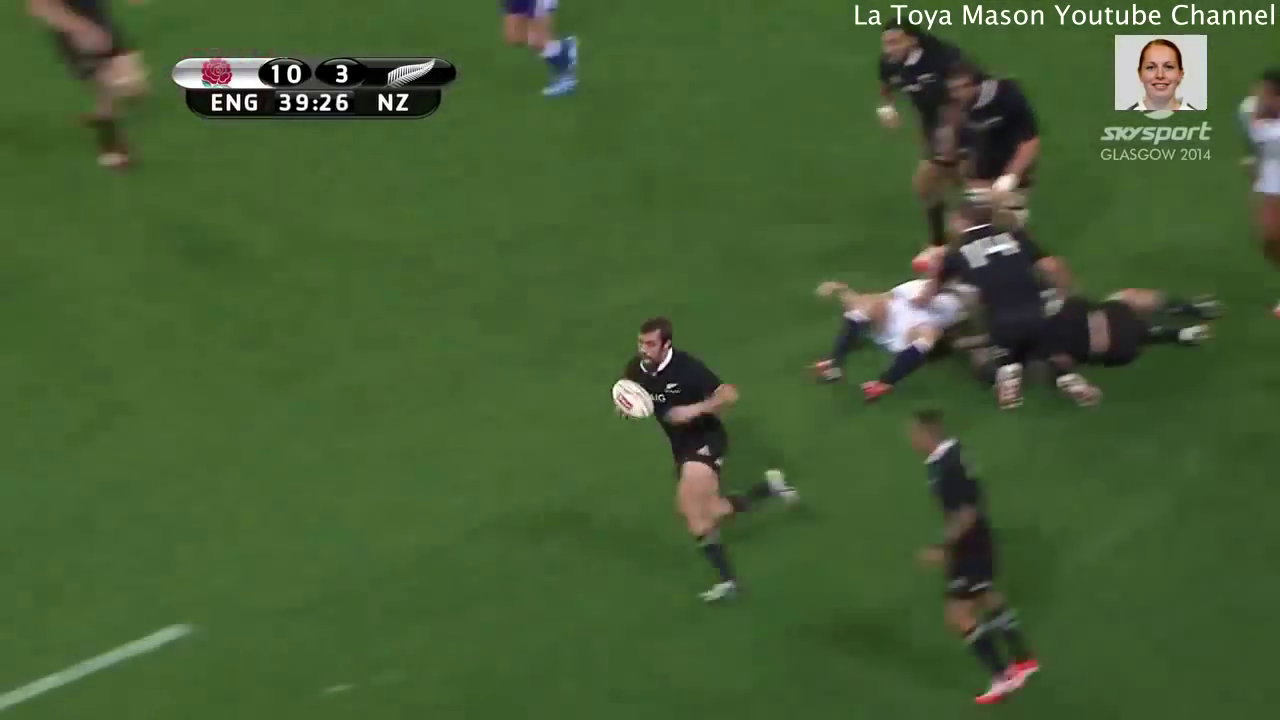ball: (603, 368, 655, 428)
player: (883, 399, 1069, 709), (920, 200, 1101, 410), (927, 62, 1053, 238), (863, 15, 971, 218), (809, 268, 956, 408)
